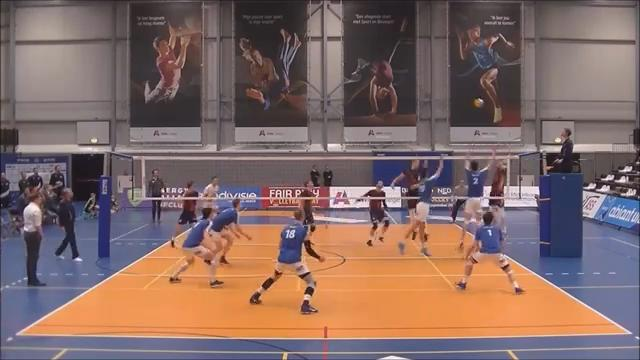Attack: (487, 145, 512, 241)
Block: (455, 140, 496, 250)
Player: (250, 209, 324, 313), (456, 211, 523, 293), (398, 156, 442, 255), (169, 208, 222, 287), (211, 199, 251, 264), (390, 160, 422, 224), (363, 181, 389, 245), (170, 199, 197, 247), (299, 180, 315, 234), (202, 176, 218, 212)
ball: (472, 96, 484, 109)
